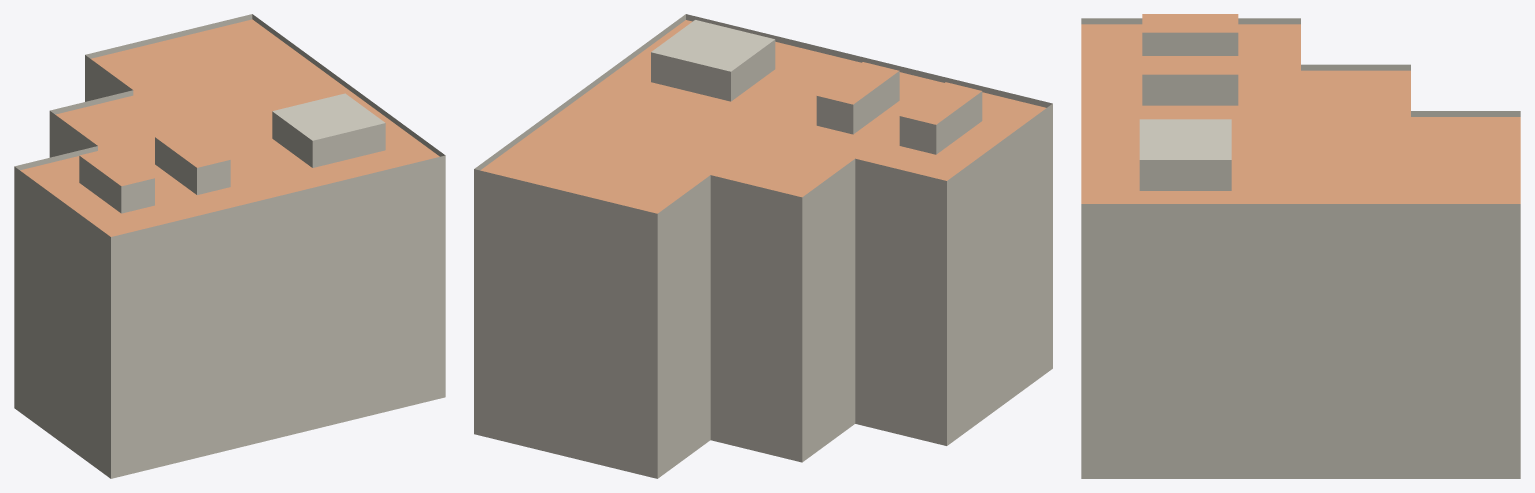
3 views of the same model, side by side, from view 1: azimuth 30°, elevation 25°; view 2: azimuth 150°, elevation 25°; view 3: azimuth 270°, elevation 25° (orthographic). The views are drawn at different scales.
Parts seen in each view (by area): view 1: Object_1, Object_7, Object_4, Object_3, Object_2, Object_5, Object_6; view 2: Object_1, Object_7, Object_4, Object_3, Object_2, Object_5, Object_6; view 3: Object_1, Object_7, Object_4, Object_2, Object_3, Object_6, Object_5.
Part boxes in pixels (x1=…): Object_1: x1=14, y1=14, x2=445, y2=478; Object_7: x1=20, y1=19, x2=439, y2=236; Object_4: x1=272, y1=93, x2=385, y2=167; Object_3: x1=79, y1=156, x2=154, y2=213; Object_2: x1=155, y1=137, x2=230, y2=194; Object_5: x1=79, y1=147, x2=154, y2=186; Object_6: x1=155, y1=129, x2=229, y2=167; Object_1: x1=474, y1=14, x2=1052, y2=478; Object_7: x1=480, y1=20, x2=1046, y2=213; Object_4: x1=651, y1=20, x2=775, y2=101; Object_3: x1=899, y1=91, x2=982, y2=154; Object_2: x1=816, y1=71, x2=899, y2=134; Object_5: x1=900, y1=82, x2=981, y2=124; Object_6: x1=817, y1=62, x2=899, y2=104; Object_1: x1=1081, y1=18, x2=1520, y2=478; Object_7: x1=1081, y1=24, x2=1520, y2=203; Object_4: x1=1139, y1=119, x2=1231, y2=190; Object_2: x1=1142, y1=74, x2=1238, y2=105; Object_3: x1=1142, y1=32, x2=1238, y2=55; Object_6: x1=1142, y1=56, x2=1238, y2=74; Object_5: x1=1142, y1=14, x2=1238, y2=32.
Size of the model in its own units: 1283 by 1283 by 966.
